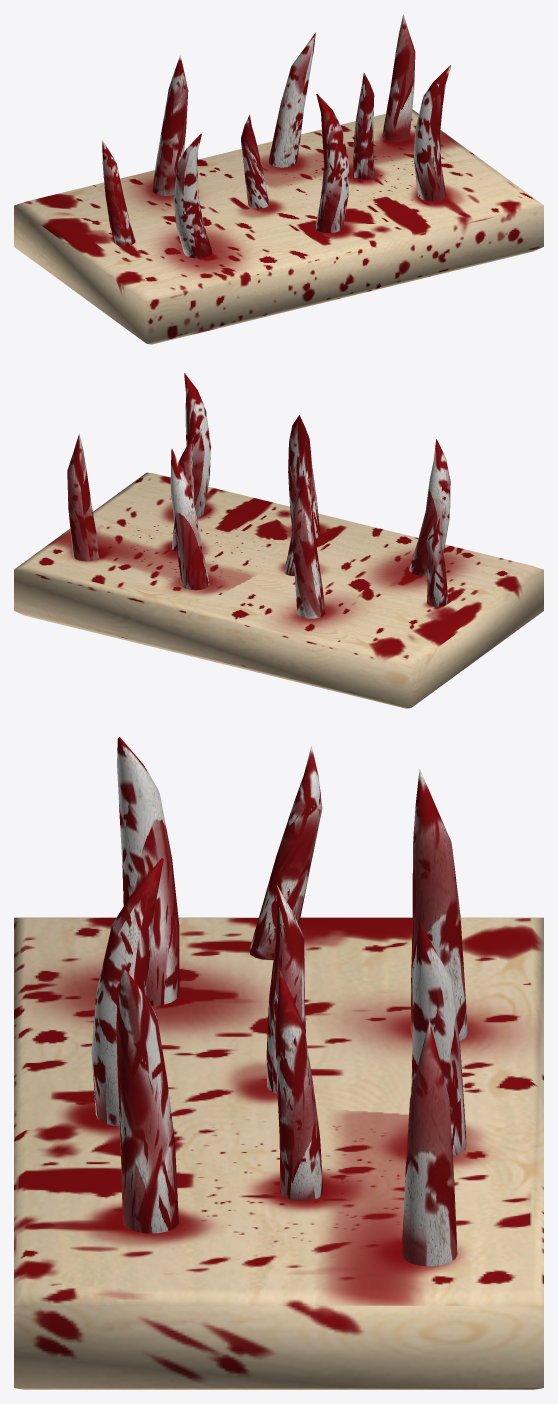
The model's file is SpikeBoard.fbx.
3 renders of one model, top to bottom at view 1: azimuth 30°, elevation 25°; view 2: azimuth 150°, elevation 25°; view 3: azimuth 270°, elevation 25°, orthographic. The views are drawn at different scales.
Parts seen in each view (by area): view 1: Board, Spikes; view 2: Board, Spikes; view 3: Board, Spikes.
Part boxes in pixels (box(x1,y1,x2,y2)): Board: box(14, 109, 543, 344); Spikes: box(102, 14, 451, 258); Board: box(14, 472, 543, 708); Spikes: box(67, 373, 450, 618); Board: box(14, 917, 543, 1389); Spikes: box(91, 737, 467, 1266).
Bounding box in the file's own units: 200 × 89.47 × 115.
Materials: 2 (2 with a texture image).
